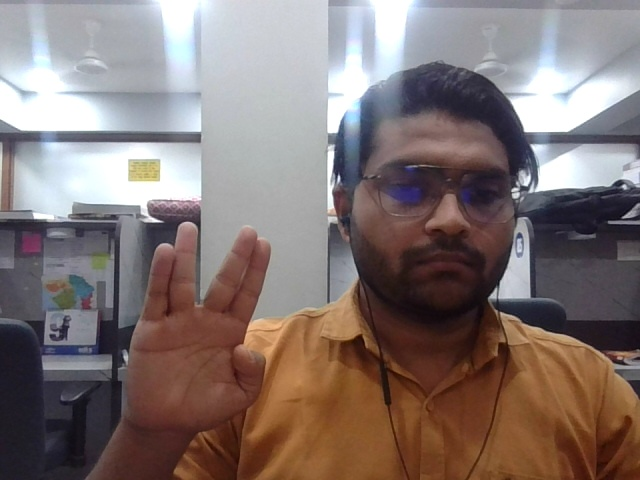LiveLong: (137, 216, 274, 412)
